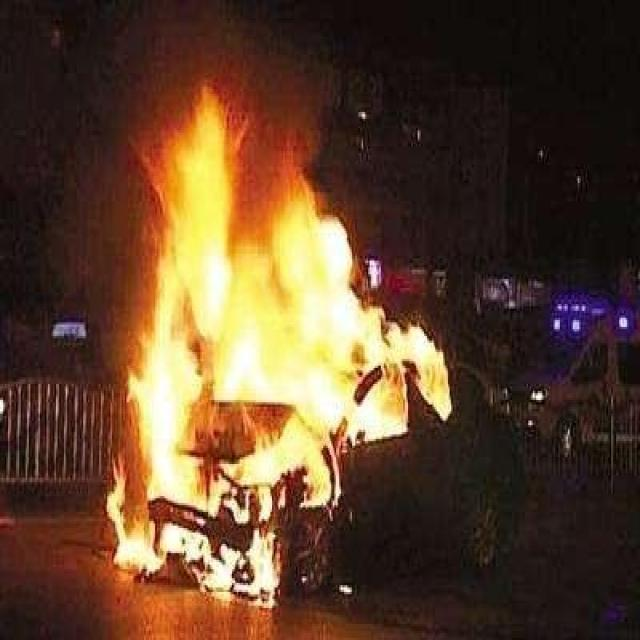fire: (98, 70, 458, 604)
